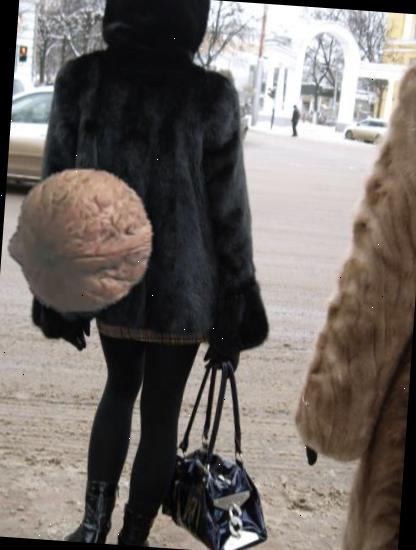Walnut: (0, 160, 160, 320)
